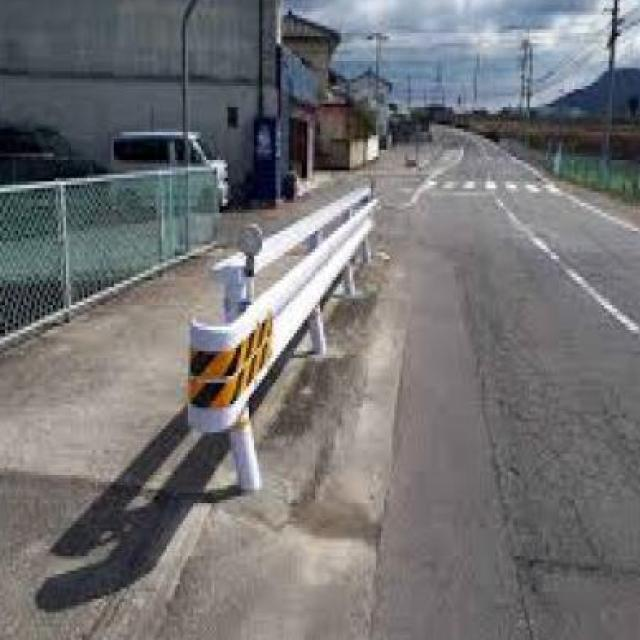Guard rail: (179, 174, 387, 514)
